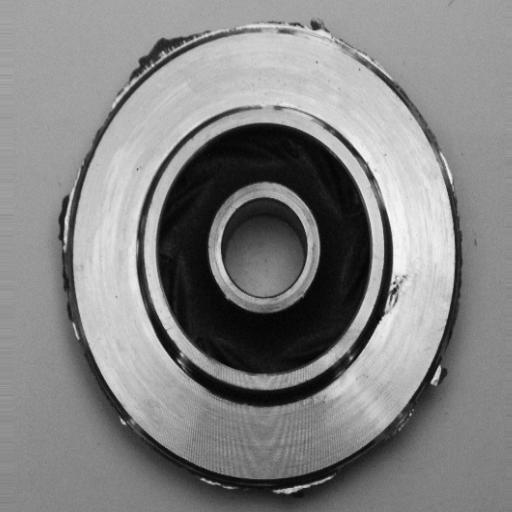casting_with_burr: (53, 15, 467, 500)
crack: (372, 262, 418, 325)
scratch: (243, 96, 345, 133)
